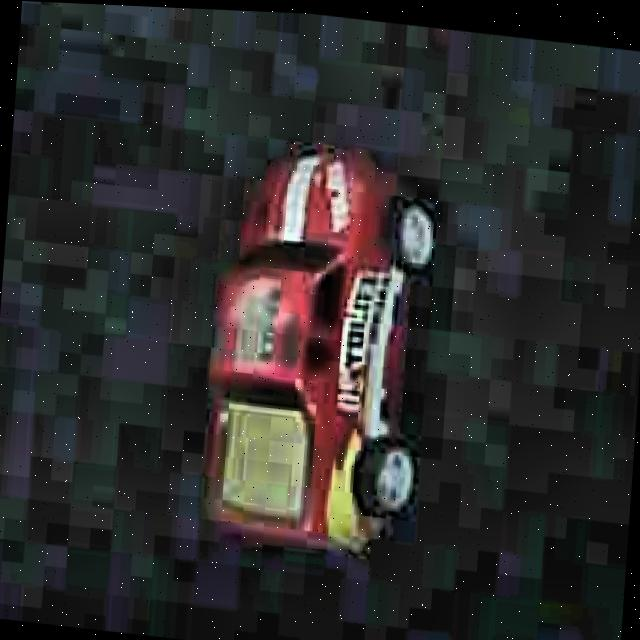car: (188, 117, 447, 570)
